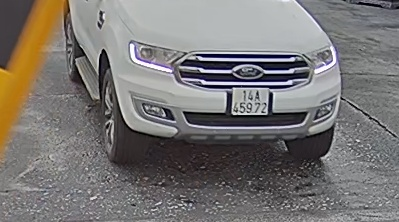vehicle plate: (225, 83, 272, 118)
